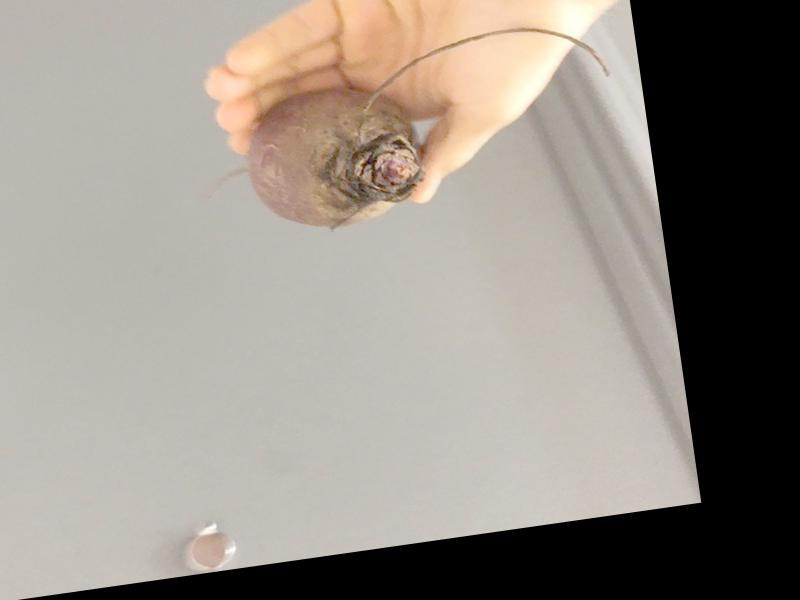Beet: (190, 14, 624, 243)
